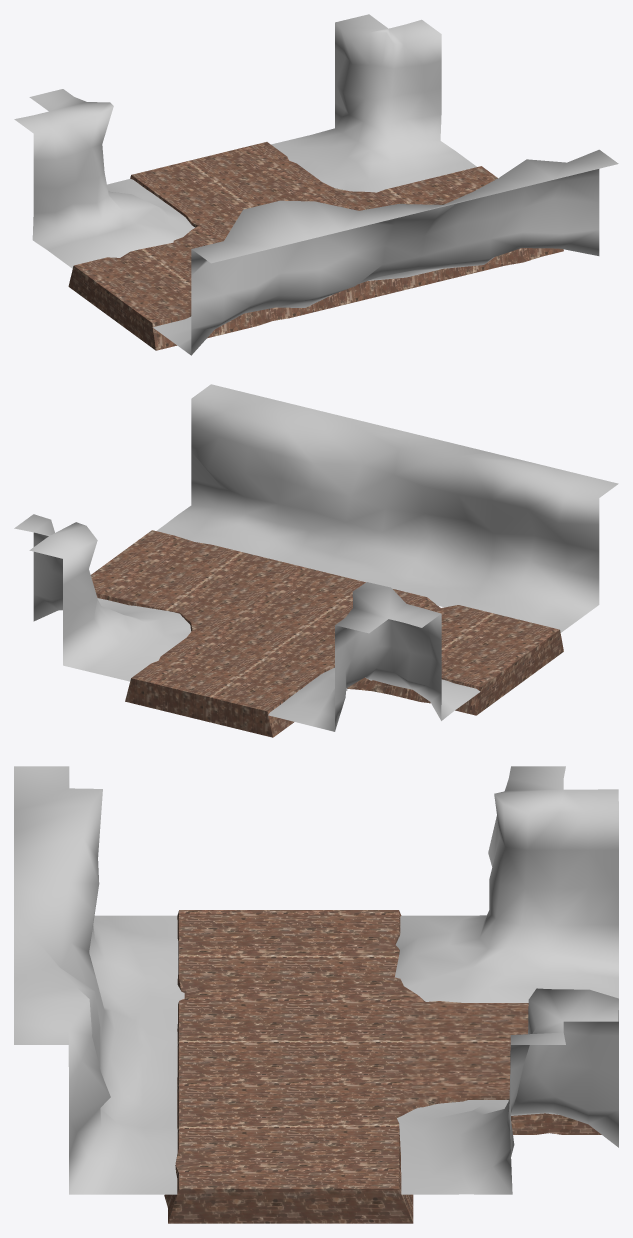
Rendered from tile_natural5.fbx.
3 views of the same model, one above another, from view 1: azimuth 30°, elevation 25°; view 2: azimuth 150°, elevation 25°; view 3: azimuth 270°, elevation 25° (orthographic). The views are drawn at different scales.
Visible parts, largest first — view 1: tilenatural4; view 2: tilenatural4; view 3: tilenatural4.
Boxes of the visible parts, <box> form: tilenatural4: <box>14,14,618,355</box>; tilenatural4: <box>14,384,618,737</box>; tilenatural4: <box>14,766,618,1223</box>.
Size of the model in its own units: 6011 by 5502 by 2062.
